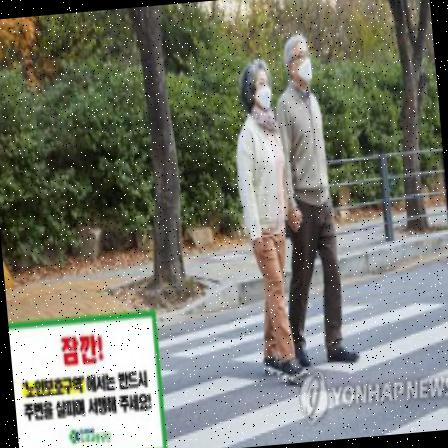silver: (266, 27, 356, 366), (226, 58, 310, 378)
